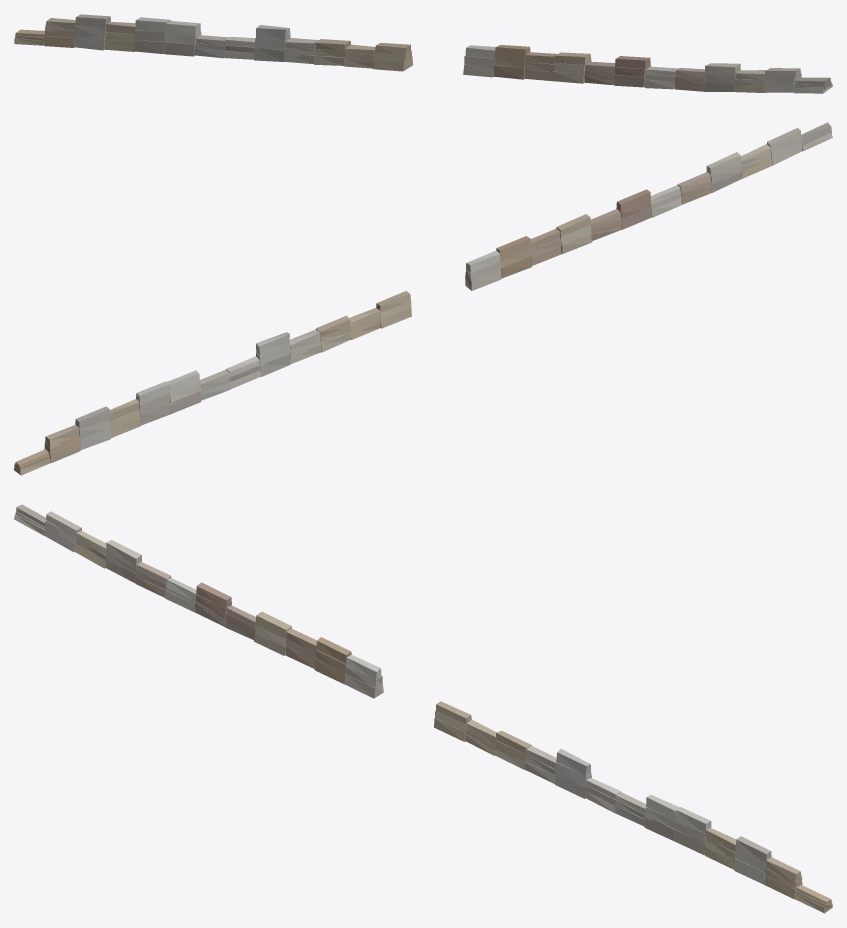
The model's file is farm_-6_5_mid.glb.
3 views of the same model, one above another, from view 1: azimuth 90°, elevation 25°; view 2: azimuth 150°, elevation 25°; view 3: azimuth 270°, elevation 25° (orthographic). The views are drawn at different scales.
Parts seen in each view (by area): view 1: geometry_0; view 2: geometry_0; view 3: geometry_0.
Part boxes in pixels (x1,y1,x2,y2): geometry_0: [14, 14, 832, 93]; geometry_0: [14, 122, 832, 475]; geometry_0: [14, 504, 832, 913].
Size of the model in its own units: 23.35 by 8.86 by 35.56.
